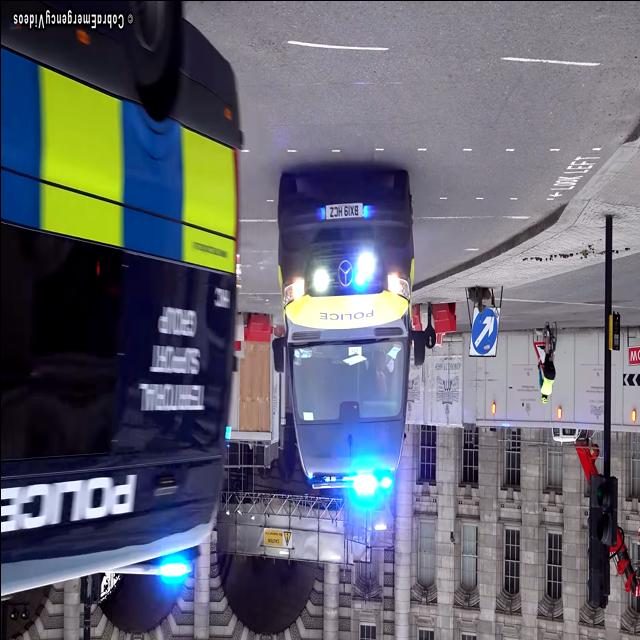emergency-vehicles: (0, 0, 246, 600), (268, 148, 424, 511)
